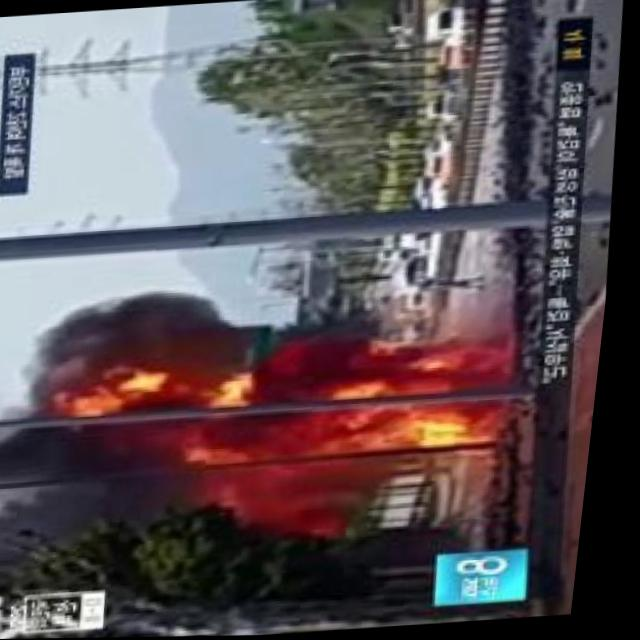Fire: (204, 334, 523, 520), (76, 368, 205, 421)
